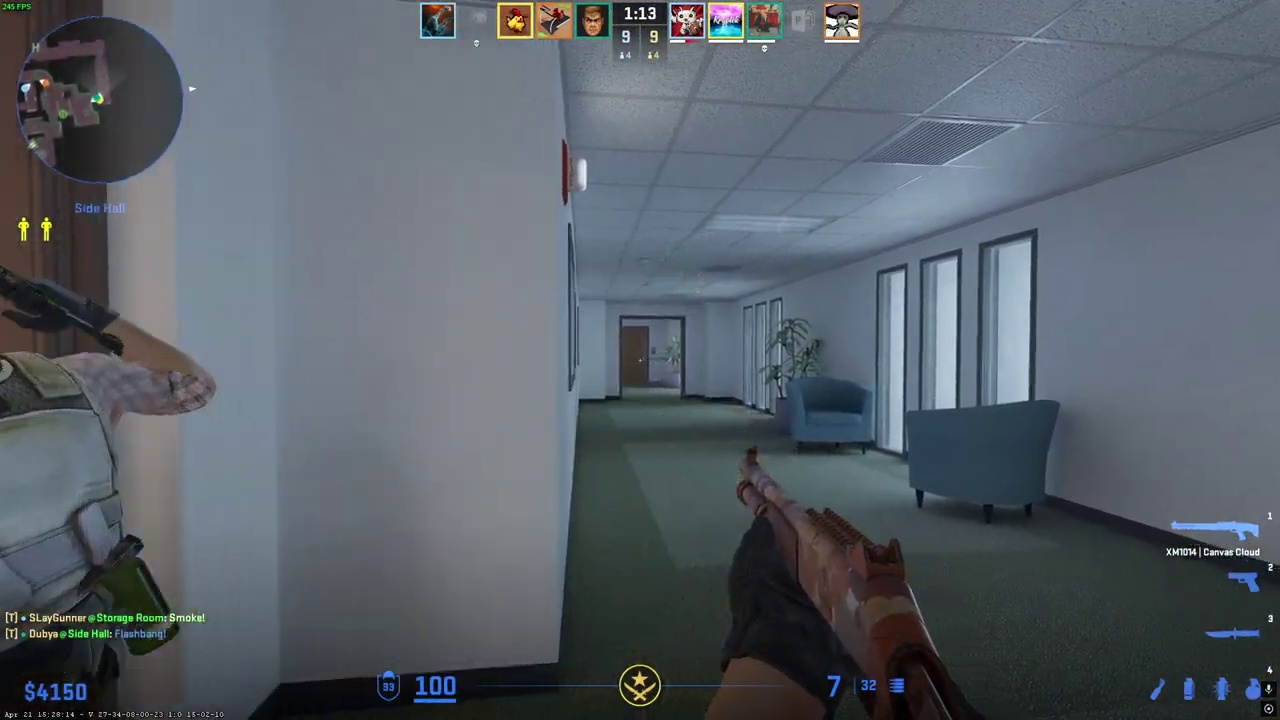Terrorist: (0, 277, 185, 720)
